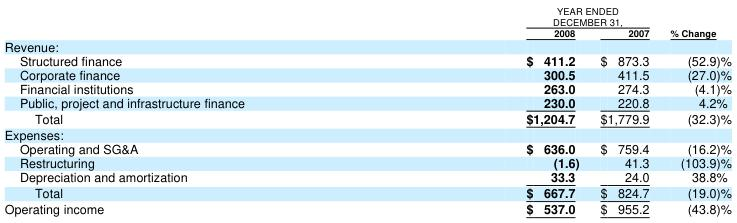table: (3, 3, 730, 217)
table column: (3, 3, 384, 217), (384, 3, 589, 217), (659, 3, 730, 217), (589, 3, 659, 217)
table column header: (3, 3, 730, 38)
table projected row header: (3, 126, 730, 141), (3, 38, 730, 52)
table row: (3, 3, 730, 26), (3, 200, 730, 217), (3, 110, 730, 126), (3, 184, 730, 200), (3, 66, 730, 81), (3, 95, 730, 110), (3, 126, 730, 141), (3, 169, 730, 184), (3, 38, 730, 52), (3, 52, 730, 66), (3, 81, 730, 95), (3, 141, 730, 155), (3, 155, 730, 169), (3, 26, 730, 38)
table spanning cell: (384, 3, 659, 26), (659, 3, 730, 38)
